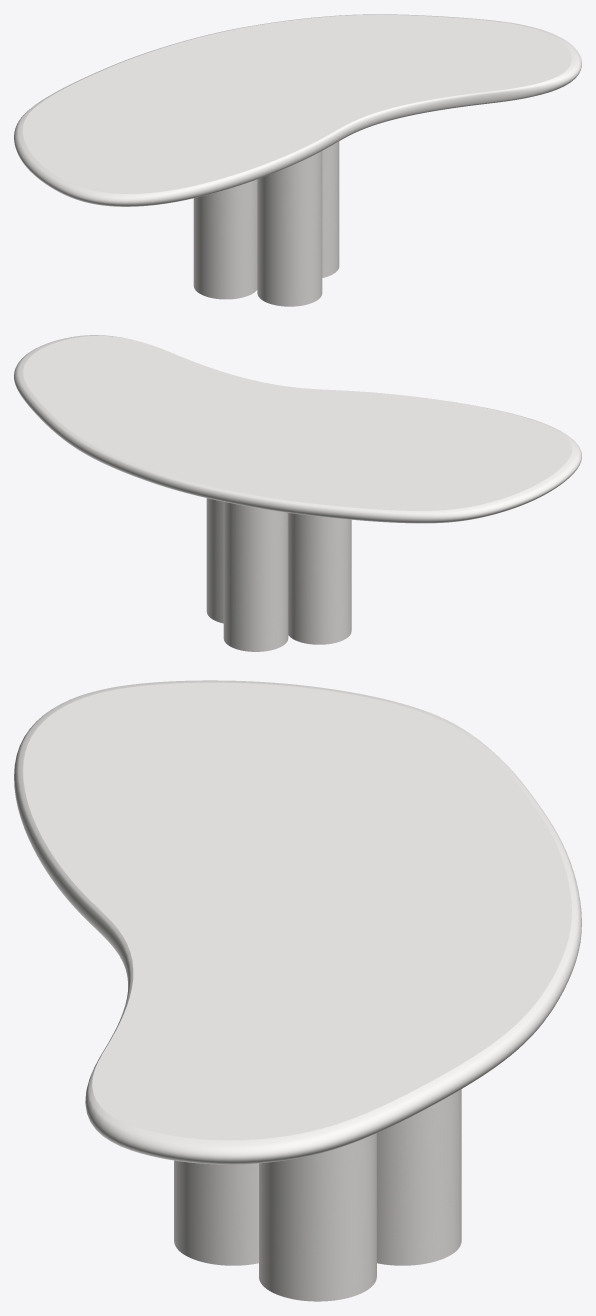
File: purewhite_leaf1_round_secondtable.glb
The picture shows the model from 3 angles, top to bottom: view 1: azimuth 30°, elevation 25°; view 2: azimuth 150°, elevation 25°; view 3: azimuth 270°, elevation 25°; orthographic projection. The views are drawn at different scales.
Visible parts, largest first — view 1: round_leaf1, secondtable; view 2: round_leaf1, secondtable; view 3: round_leaf1, secondtable.
Part boxes in pixels (x1,y1,x2,y2): round_leaf1: (14, 14, 581, 206); secondtable: (193, 141, 339, 306); round_leaf1: (14, 335, 581, 523); secondtable: (206, 498, 351, 651); round_leaf1: (14, 680, 581, 1164); secondtable: (174, 1089, 461, 1301).
Size of the model in its own units: 7.5 by 2.51 by 3.8.
1 material, 1 textured.
